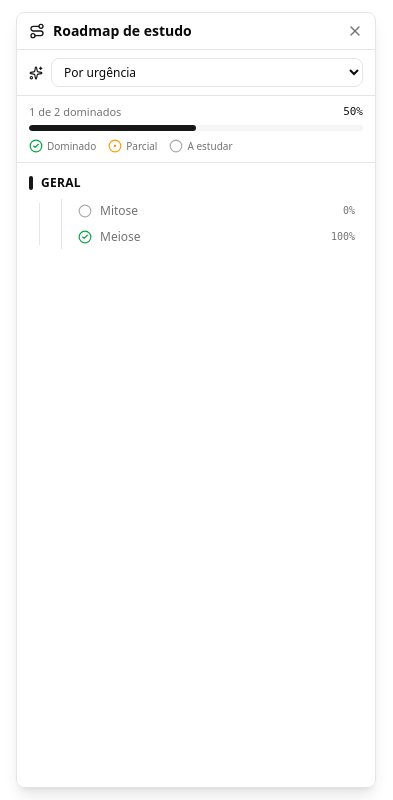
Test: RoadmapPanel › fetches the server roadmap and shows steps and the 'new items' banner when switching mode
The width and height of the screenshot is (393, 800).
Select "Por prova" in the dropdown at (207, 72), box [51,58,363,87]
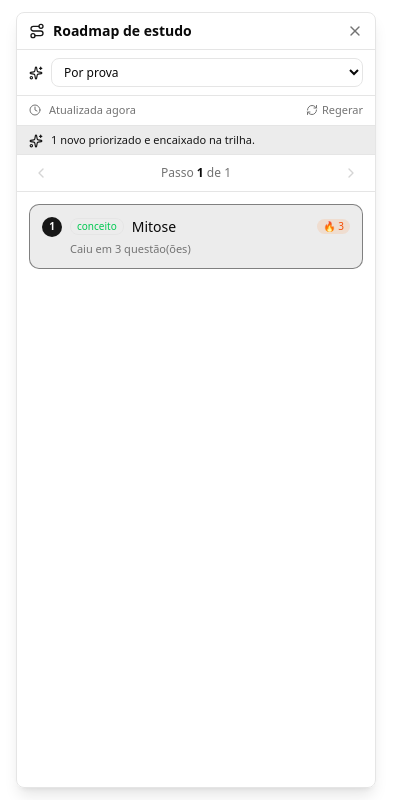
expect the text "Mitose" is shown: met, box [132,216,176,236]
expect the text "1 novo priorizado e encaixado na trilha." is shown: met, box [51,132,255,147]
